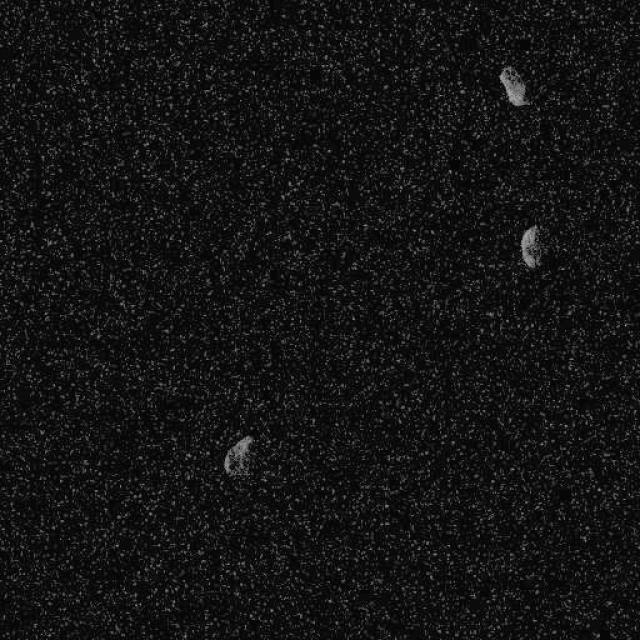D2: (222, 434, 254, 478), (498, 65, 530, 106), (520, 224, 541, 268)
